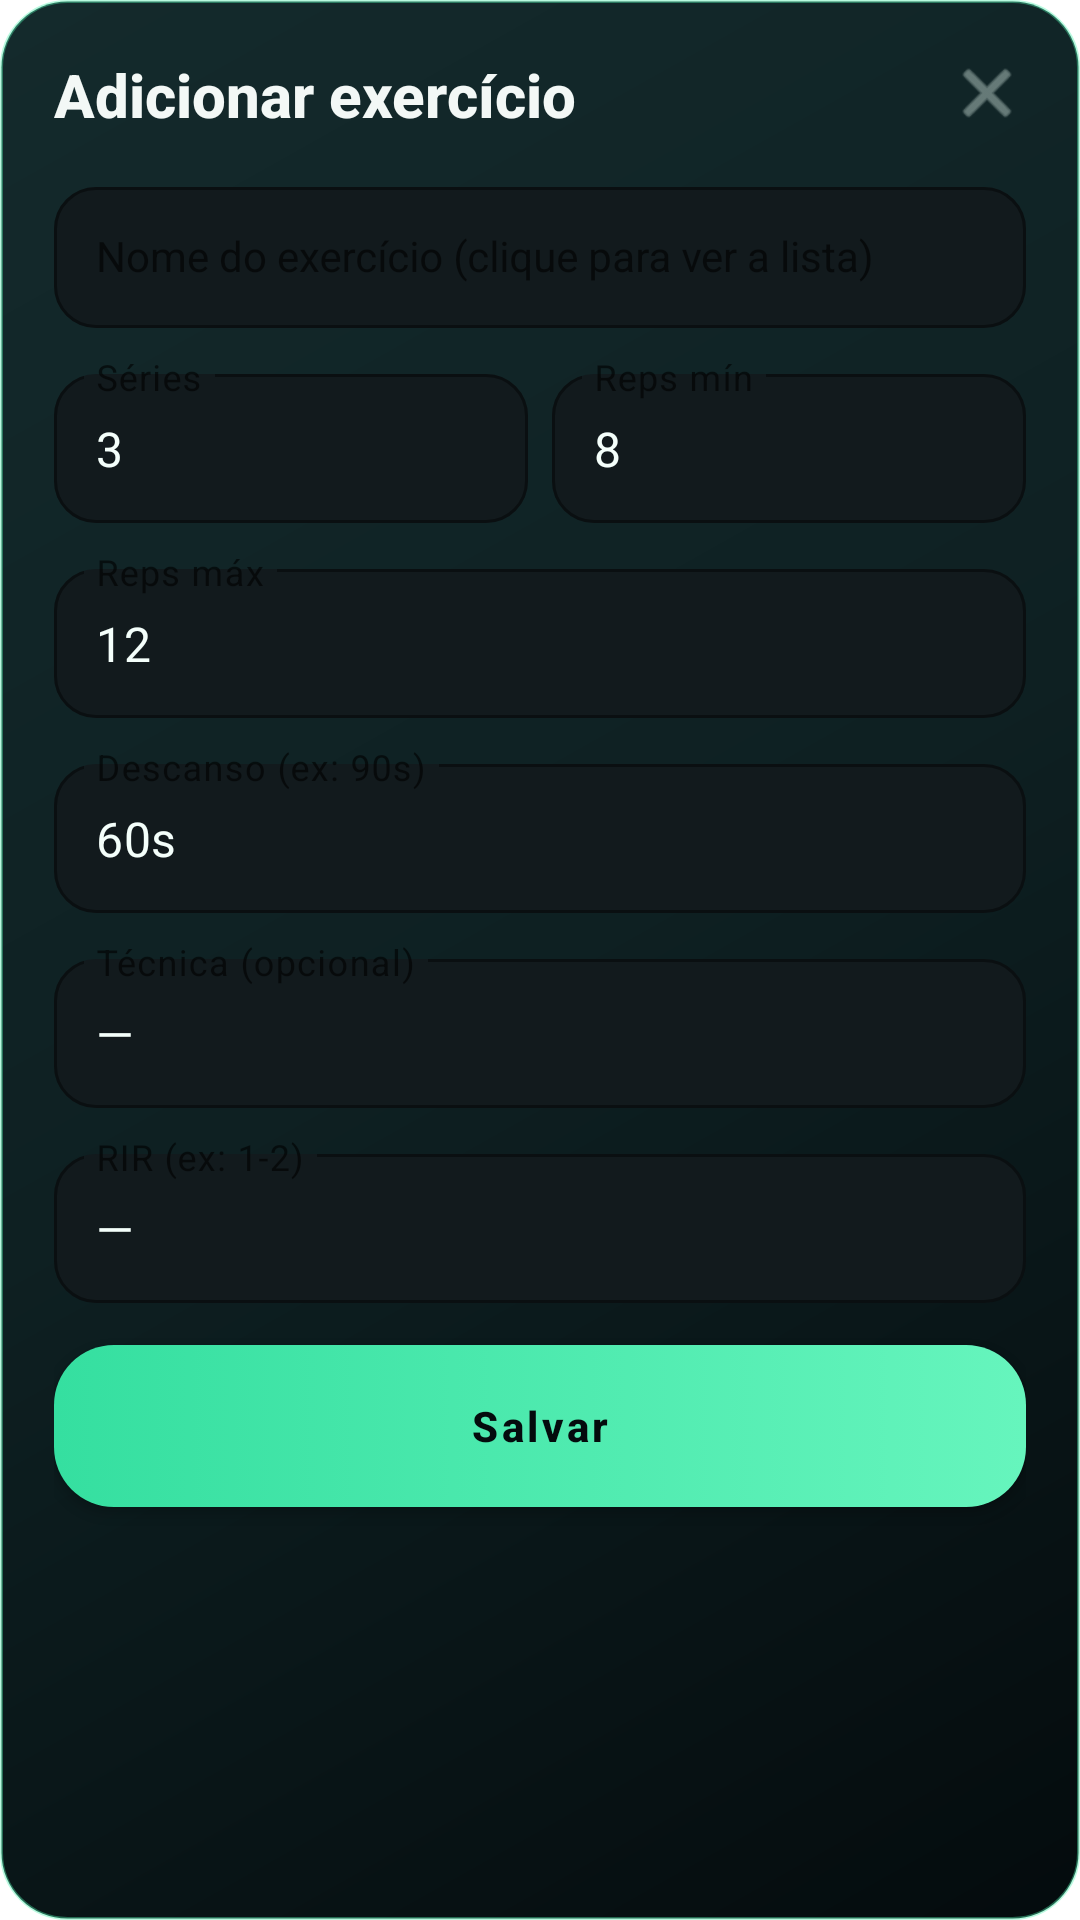

Screen size 1080*1920. Icon name, then its center in pixels as [x,y]:
close clear cancel: [987,93]
